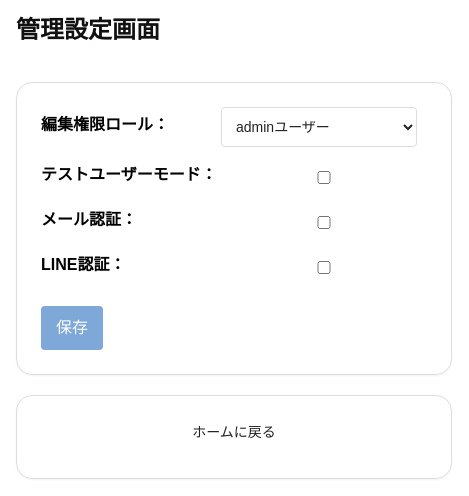
Test: RootSetting › 複数フィールドを変更 → 片方だけ戻すとまだ dirty、全て戻すと非 dirty
Select "ルートユーザー" in the dropdown at (319, 127), box [221,107,417,147]
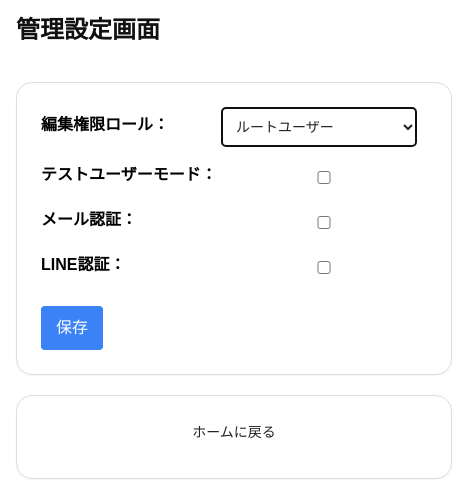
Click the checkbox next to "テストユーザーモード：" at (324, 178), box [221,171,427,184]
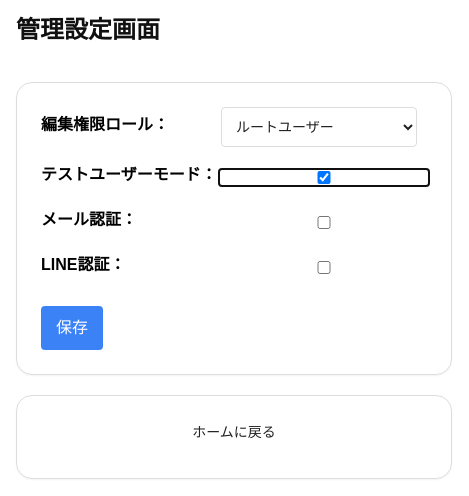
Result: the button "保存" is enabled at [41,306,103,350]
Note: 1つだけ戻す → まだ dirty
Select "adminユーザー" in the dropdown at (319, 127), box [221,107,417,147]
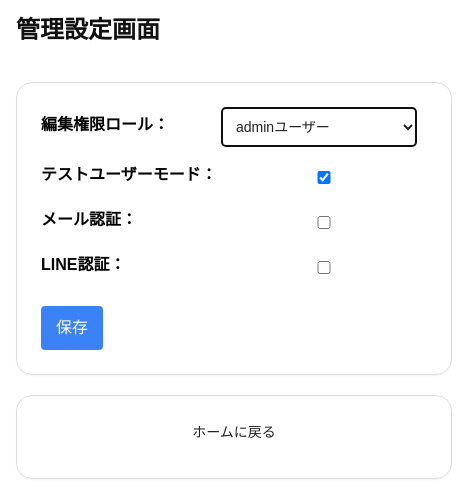
Result: the button "保存" is enabled at [41,306,103,350]
Note: もう1つも戻す → 非 dirty
Click the checkbox next to "テストユーザーモード：" at (324, 178), box [221,171,427,184]
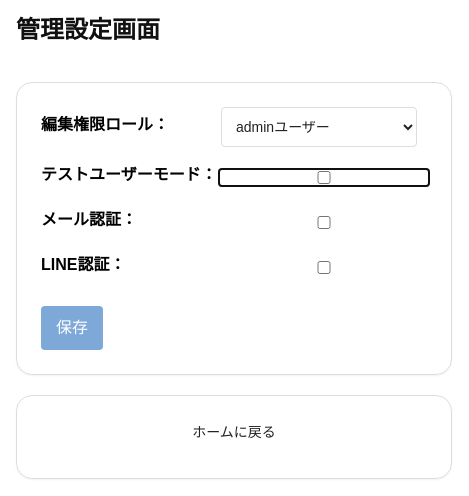
Result: the button "保存" is disabled at [41,306,103,350]
